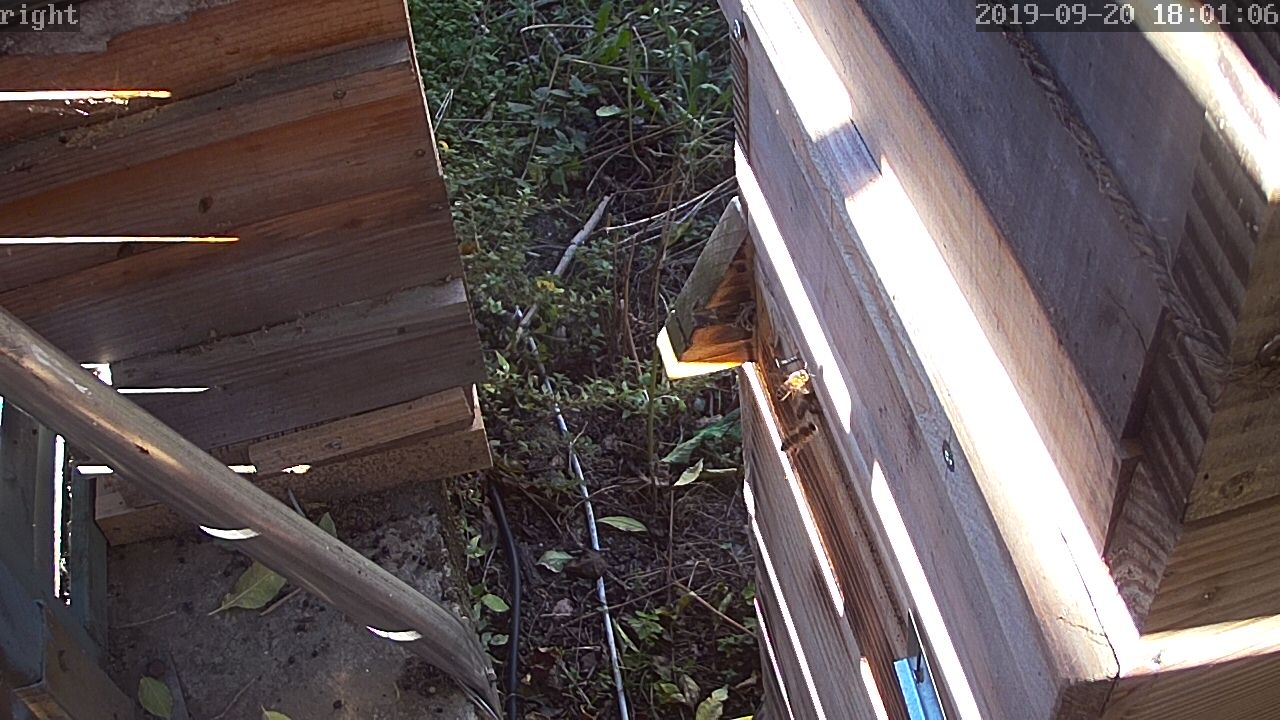bee: (769, 415, 828, 464), (770, 364, 814, 407)
